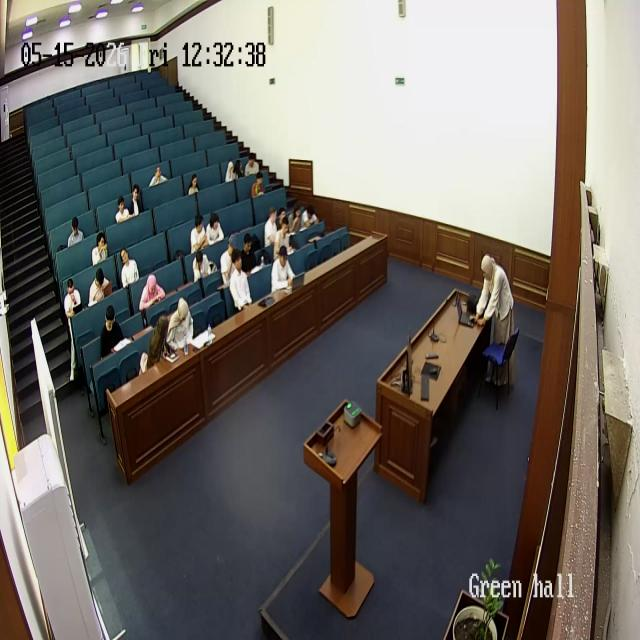person: (471, 255, 517, 391), (142, 314, 172, 372), (228, 251, 254, 313), (167, 296, 194, 352), (100, 306, 125, 360), (270, 244, 296, 294), (140, 273, 166, 318), (88, 268, 112, 306), (62, 277, 82, 321), (119, 246, 139, 289), (240, 232, 260, 275), (220, 233, 237, 281), (192, 245, 212, 283), (274, 219, 293, 257), (190, 214, 208, 252), (302, 200, 322, 232), (91, 230, 108, 267), (205, 212, 223, 246), (264, 207, 278, 248), (67, 217, 85, 247), (128, 184, 144, 216), (114, 196, 130, 224), (149, 164, 167, 187), (251, 172, 265, 198), (244, 151, 259, 175), (224, 160, 238, 184), (292, 204, 302, 234), (188, 173, 200, 196), (235, 158, 245, 178), (280, 204, 288, 226)
